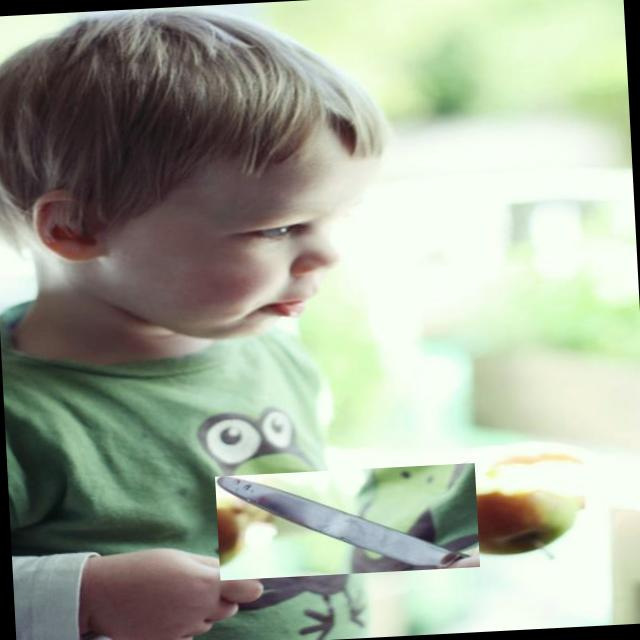Knife: (215, 476, 479, 569)
